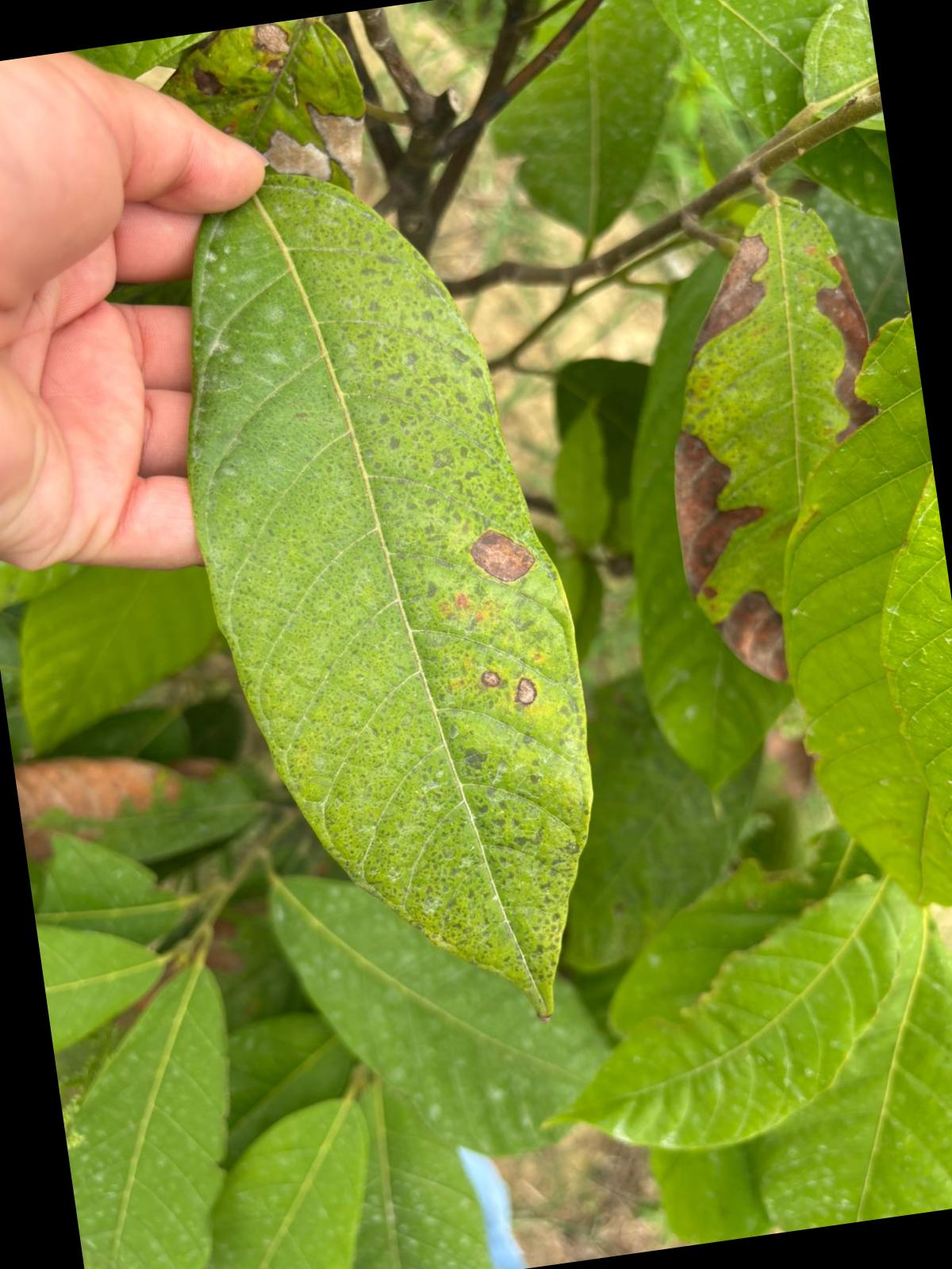Fosforo: (189, 173, 591, 1015)
